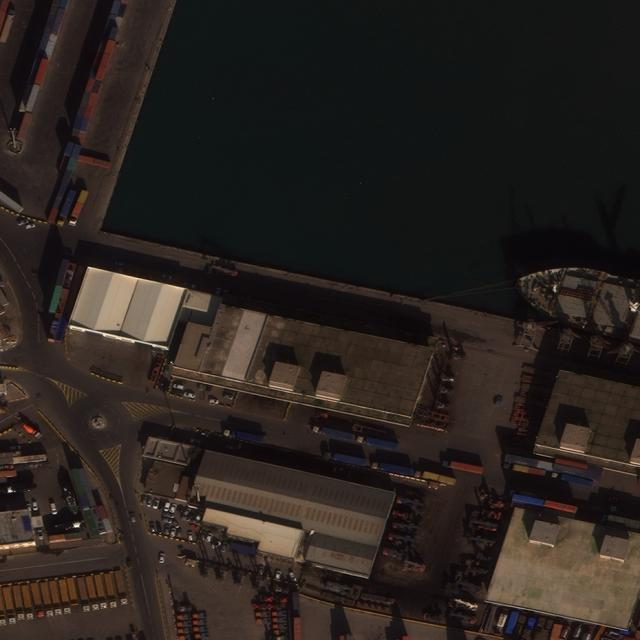Cargo: (515, 264, 640, 343)
